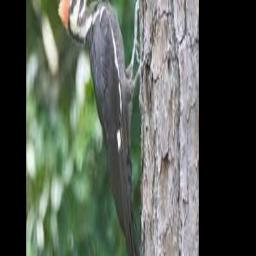Woodpecker: (57, 0, 145, 256)
